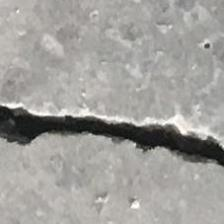Crack: (0, 90, 224, 175)
